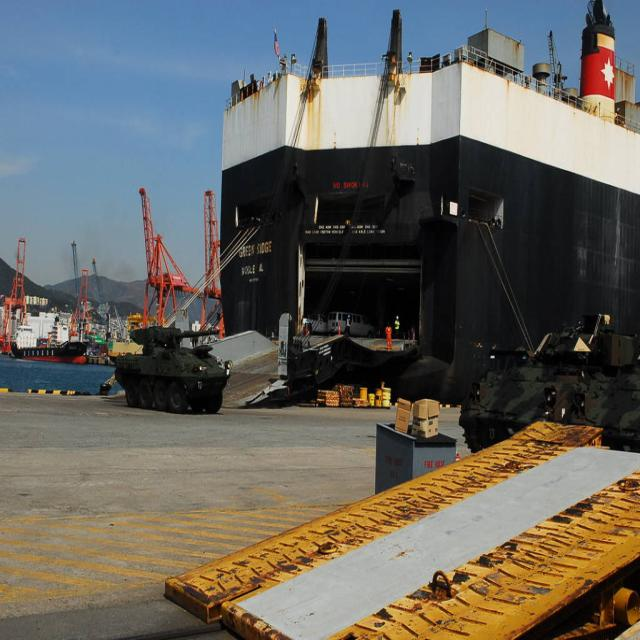Boat: (215, 0, 637, 406)
